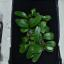leaf: (28, 15, 42, 27), (15, 18, 29, 28), (34, 24, 40, 43), (27, 44, 41, 52), (14, 11, 28, 18), (42, 32, 54, 40), (32, 50, 40, 62), (43, 44, 54, 51), (26, 48, 32, 59), (19, 45, 27, 53), (45, 41, 56, 46), (42, 15, 52, 20), (21, 37, 29, 43), (20, 28, 29, 32)
